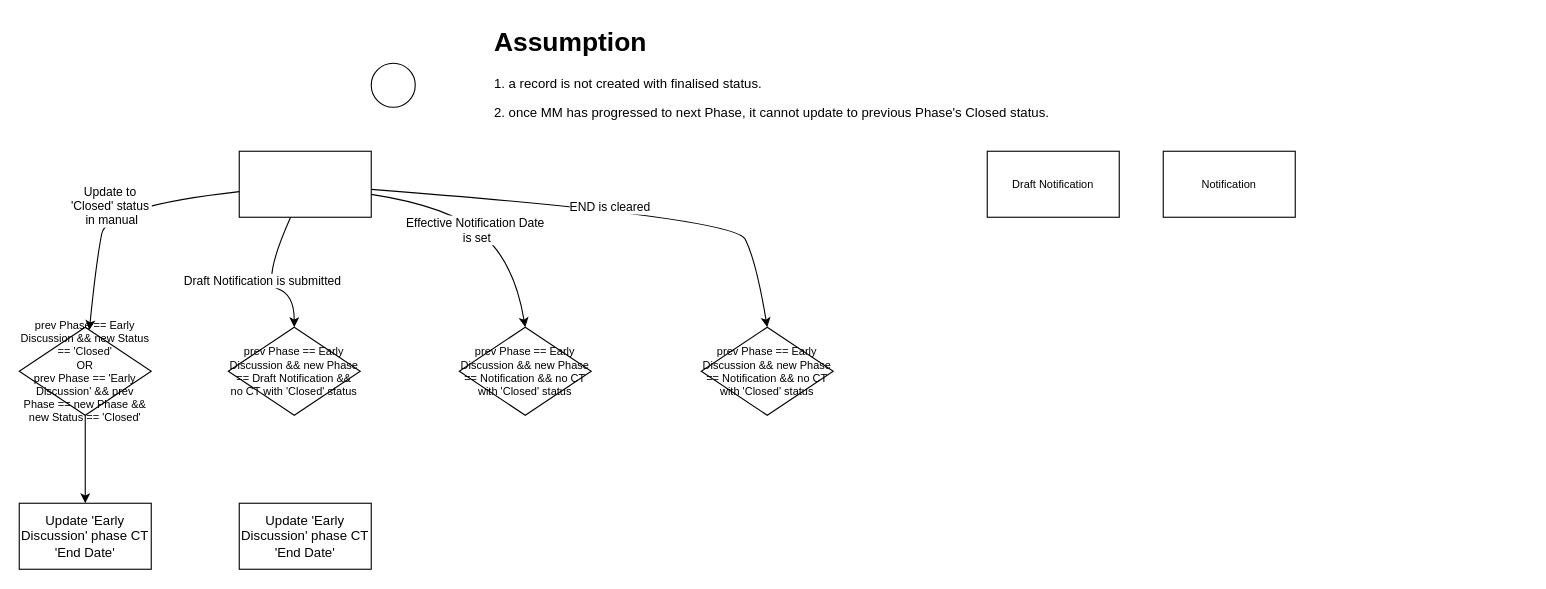
The diagram is 1546 pixels wide and 589 high, and some of its shapes have lost their labels. Each missing label, with the centre of its shape:
"Early Discussion (Notification)" goes at (304,183).
"Start" goes at (392,84).
